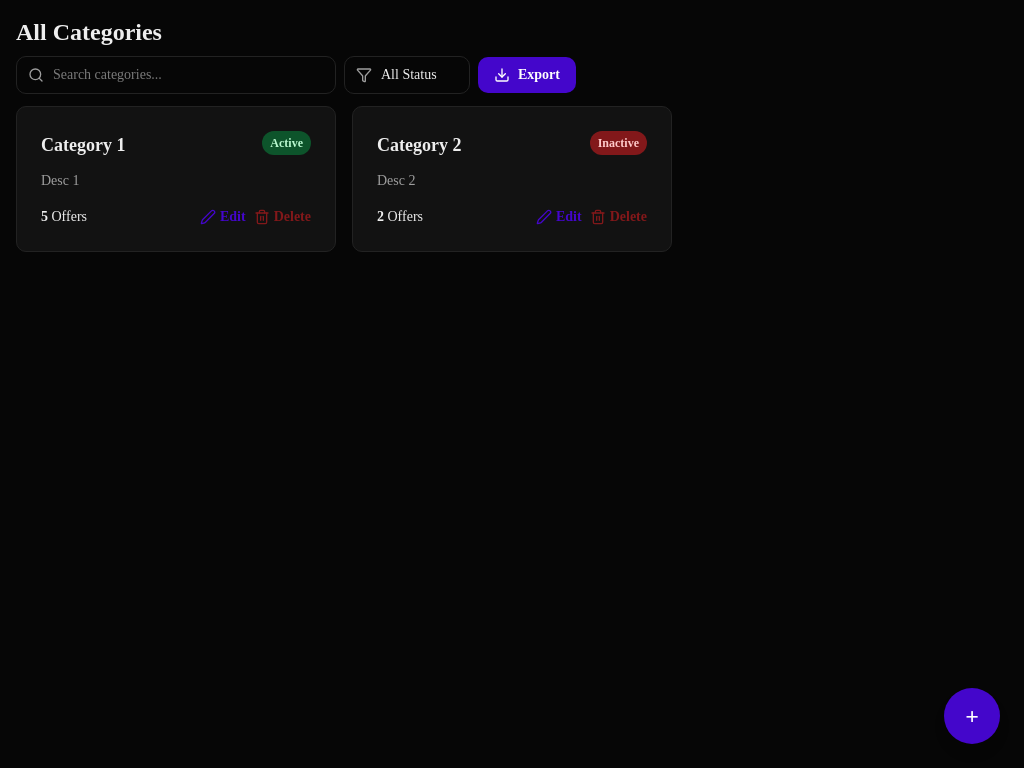
AllCategoriesTable Component › should open the delete modal when "Delete" is clicked
Expected: the heading "Category 1" is shown, x1=41 y1=131 x2=126 y2=159
Click the button "Delete" below "Desc 1" at {"x": 282, "y": 217}, box x1=254 y1=207 x2=311 y2=227
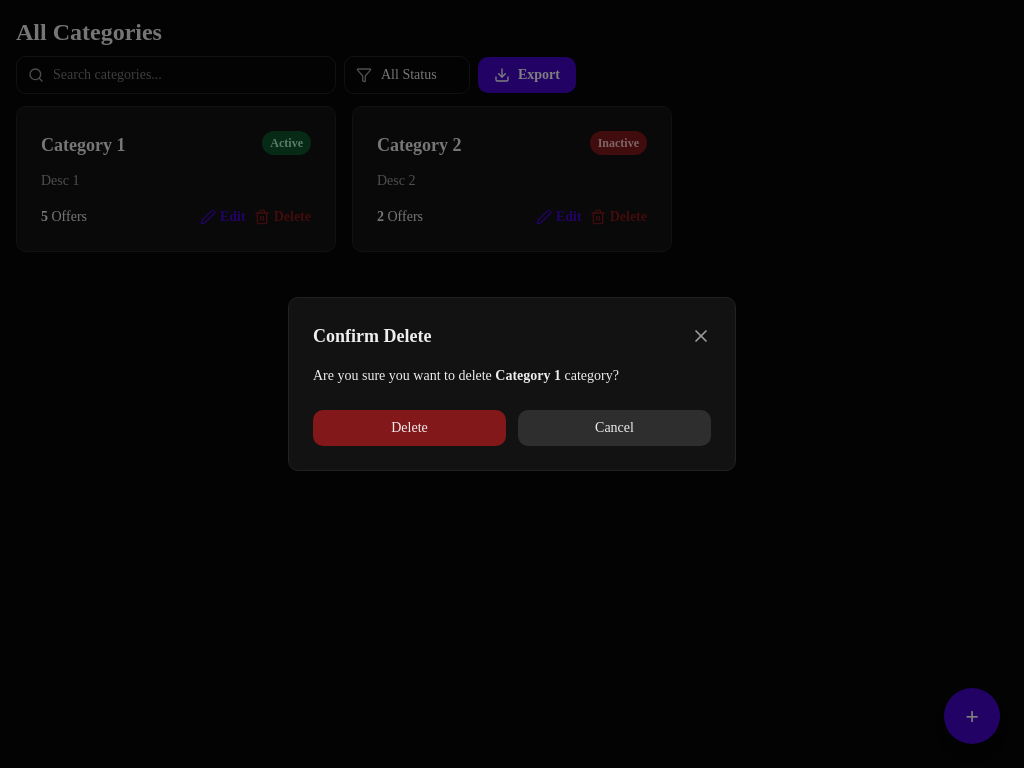
Now the heading "Confirm Delete" is shown, box x1=313 y1=322 x2=432 y2=350
Now the text "Are you sure you want to delete Category 1 category?" is shown, box x1=313 y1=368 x2=619 y2=383
